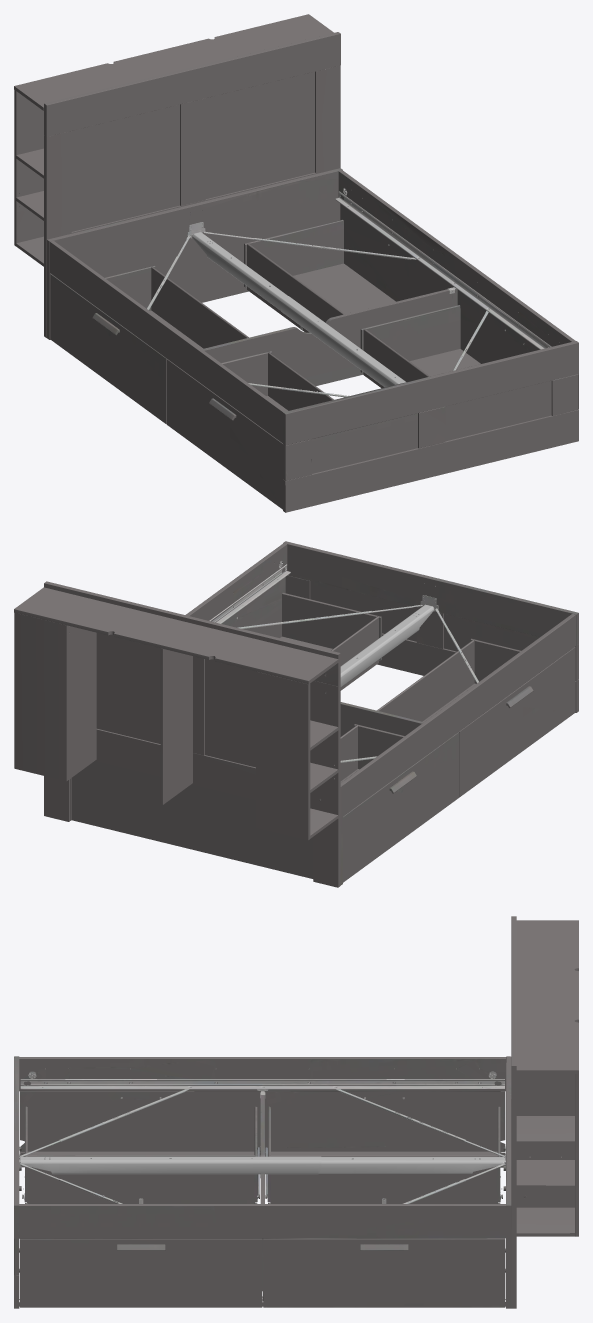
The model's file is brimnes_rama_ozka_z_pojemnikiem_zagowek_99590023.glb.
3 renders of one model, top to bottom at view 1: azimuth 30°, elevation 25°; view 2: azimuth 150°, elevation 25°; view 3: azimuth 270°, elevation 25°, orthographic. The views are drawn at different scales.
Parts seen in each view (by area): view 1: brimnes_rama_ozka_z_pojemnikiem_zagowek_99590023; view 2: brimnes_rama_ozka_z_pojemnikiem_zagowek_99590023; view 3: brimnes_rama_ozka_z_pojemnikiem_zagowek_99590023.
Boxes of the visible parts, x1=… form: brimnes_rama_ozka_z_pojemnikiem_zagowek_99590023: x1=14, y1=14, x2=578, y2=512; brimnes_rama_ozka_z_pojemnikiem_zagowek_99590023: x1=14, y1=541, x2=578, y2=887; brimnes_rama_ozka_z_pojemnikiem_zagowek_99590023: x1=14, y1=916, x2=578, y2=1308.
Bounding box in the file's own units: 1.5 × 1.11 × 2.34.
3 materials, 1 textured.
